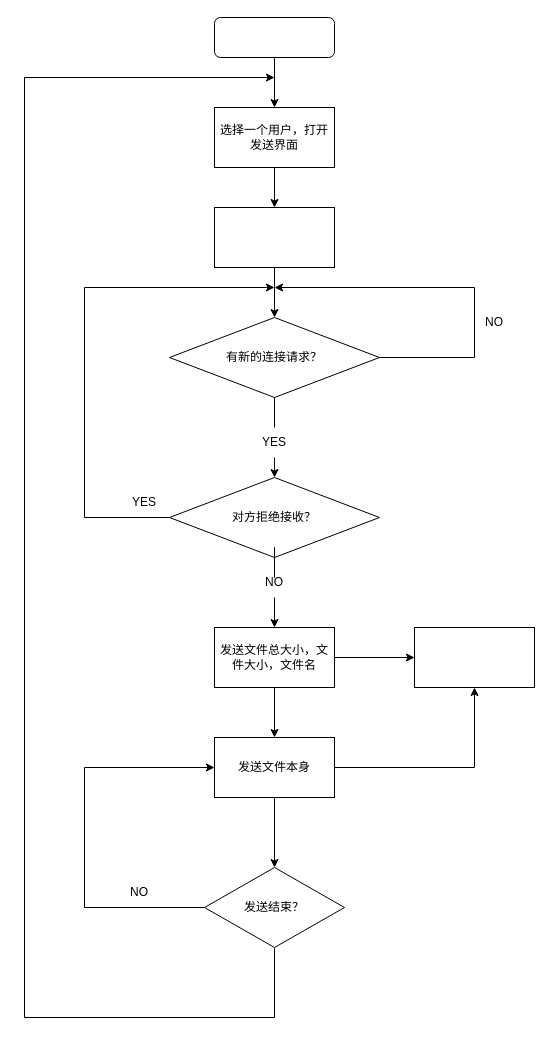
This 552x1043 diagram has some shape labels left out. The shapes that lost their labels are listed below. From the top down, each one's centre as x and y in pixels, then its label:
(274,37): 开始
(274,237): 选择发送文件并发送文件名信号
(474,657): 触发更新发送进度条
